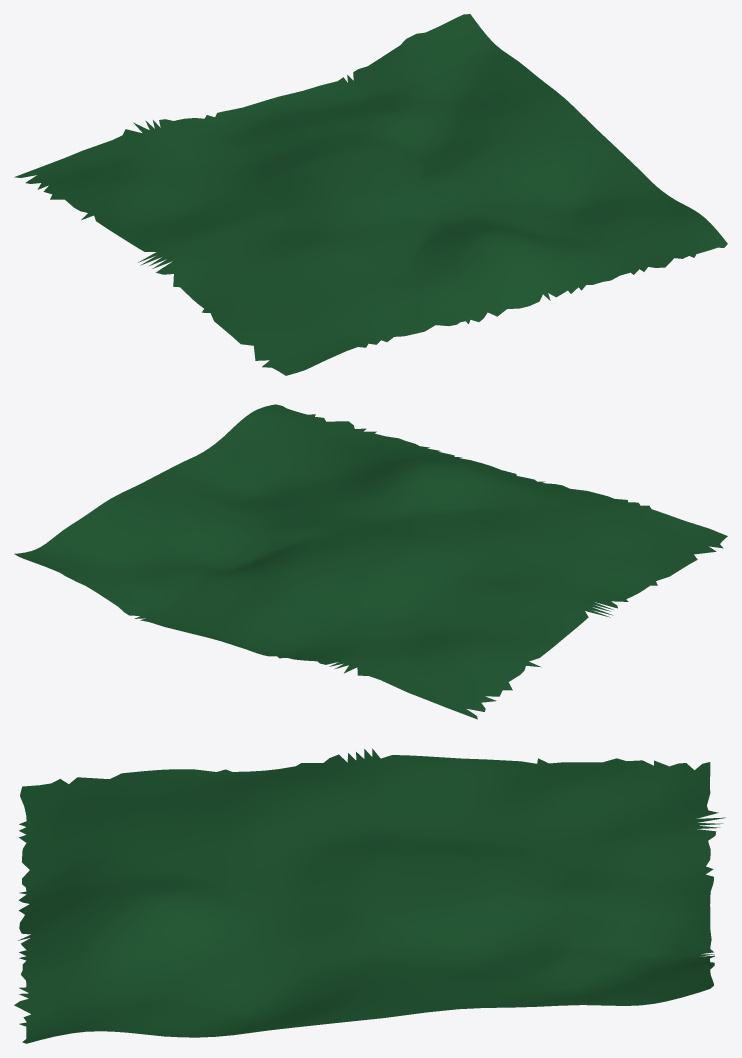
File: payo_land_x3_y0_lod1.glb
3 views of the same model, one above another, from view 1: azimuth 30°, elevation 25°; view 2: azimuth 150°, elevation 25°; view 3: azimuth 270°, elevation 25° (orthographic). The views are drawn at different scales.
Visible parts, largest first — view 1: payo_land_x3_y0; view 2: payo_land_x3_y0; view 3: payo_land_x3_y0.
Boxes of the visible parts, x1,y1,x2,y2 form: payo_land_x3_y0: [14, 14, 727, 375]; payo_land_x3_y0: [14, 404, 727, 719]; payo_land_x3_y0: [14, 748, 725, 1043].
Size of the model in its own units: 264 by 34.98 by 266.
